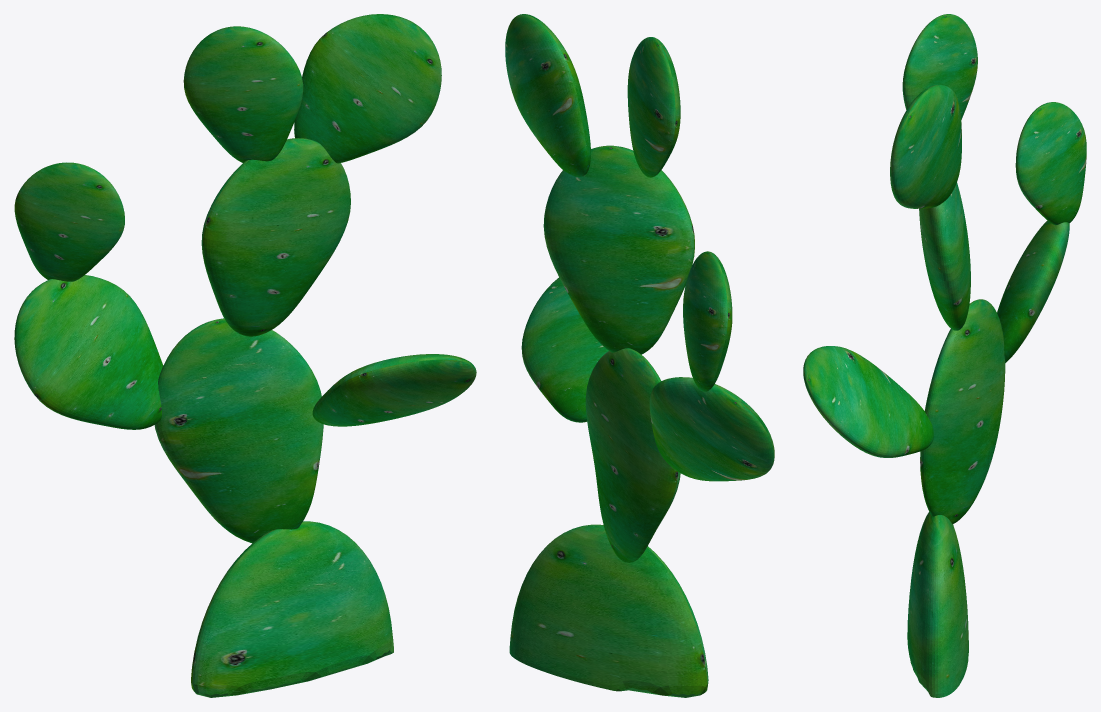
The model's file is OpuntiaCactus.fbx.
3 renders of one model, left to right at view 1: azimuth 30°, elevation 25°; view 2: azimuth 150°, elevation 25°; view 3: azimuth 270°, elevation 25°, orthographic. The views are drawn at different scales.
Visible parts, largest first — view 1: Sphere.001, Sphere, Sphere.002, Sphere.003, Sphere.006, Sphere.005, Sphere.007, Sphere.004; view 2: Sphere, Sphere.002, Sphere.001, Sphere.003, Sphere.006, Sphere.004, Sphere.005, Sphere.007; view 3: Sphere.001, Sphere.004, Sphere, Sphere.006, Sphere.007, Sphere.002, Sphere.005, Sphere.003.
Boxes of the visible parts, x1,y1,x2,y2 form: Sphere.001: (154, 318, 323, 543); Sphere: (191, 521, 393, 697); Sphere.002: (201, 138, 350, 336); Sphere.003: (14, 275, 163, 429); Sphere.006: (294, 14, 441, 163); Sphere.005: (183, 26, 303, 162); Sphere.007: (14, 162, 124, 281); Sphere.004: (312, 354, 476, 426); Sphere: (509, 524, 708, 697); Sphere.002: (543, 145, 694, 354); Sphere.001: (585, 348, 680, 562); Sphere.003: (649, 377, 774, 481); Sphere.006: (505, 14, 590, 176); Sphere.004: (521, 277, 608, 422); Sphere.005: (627, 37, 680, 177); Sphere.007: (683, 251, 732, 391); Sphere.001: (920, 299, 1005, 523); Sphere.004: (803, 346, 933, 457); Sphere: (907, 512, 968, 697); Sphere.006: (890, 85, 961, 208); Sphere.007: (1015, 102, 1086, 225); Sphere.002: (919, 183, 970, 330); Sphere.005: (902, 14, 977, 119); Sphere.003: (997, 220, 1069, 362).
Bounding box in the file's own units: 241 × 435 × 182.
1 material, 1 textured.
